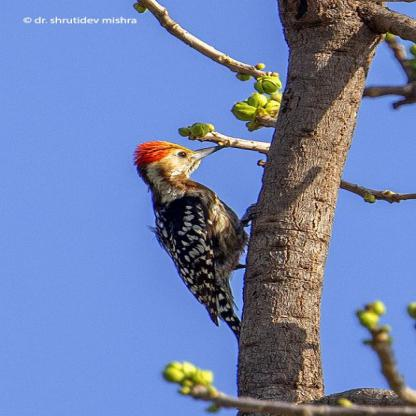Burung: (135, 141, 261, 345)
